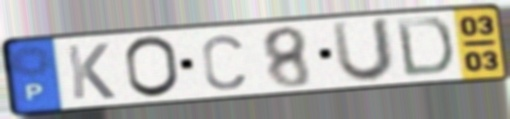8: (259, 24, 314, 90)
C: (199, 32, 248, 92)
D: (393, 15, 457, 79)
K: (63, 41, 118, 101)
O: (122, 34, 183, 100)
U: (329, 15, 397, 85)
